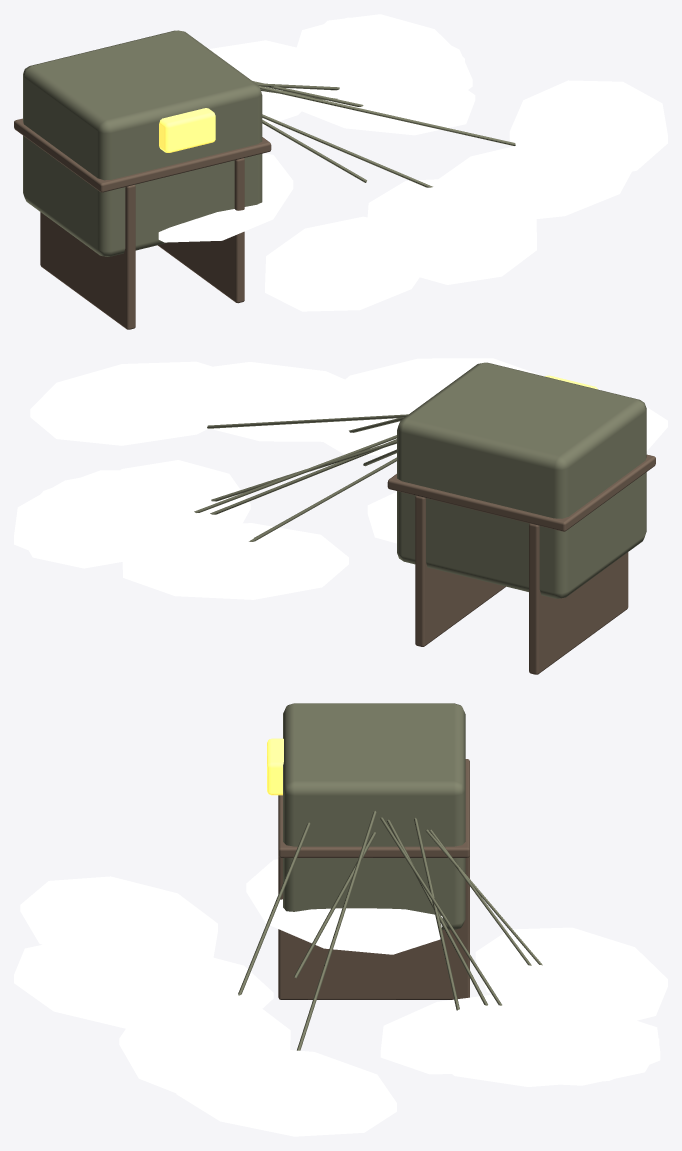
The model's file is fps-survival-forest-outpost-supply-drop-726a9bac__32676.glb.
3 views of the same model, one above another, from view 1: azimuth 30°, elevation 25°; view 2: azimuth 150°, elevation 25°; view 3: azimuth 270°, elevation 25° (orthographic). The views are drawn at different scales.
Parts seen in each view (by area): view 1: supply-drop; view 2: supply-drop; view 3: supply-drop.
Part boxes in pixels (x1,y1,x2,y2): supply-drop: [14, 14, 667, 329]; supply-drop: [14, 358, 667, 674]; supply-drop: [14, 703, 667, 1136].
Bounding box in the file's own units: 3.13 × 1.1 × 2.87.
